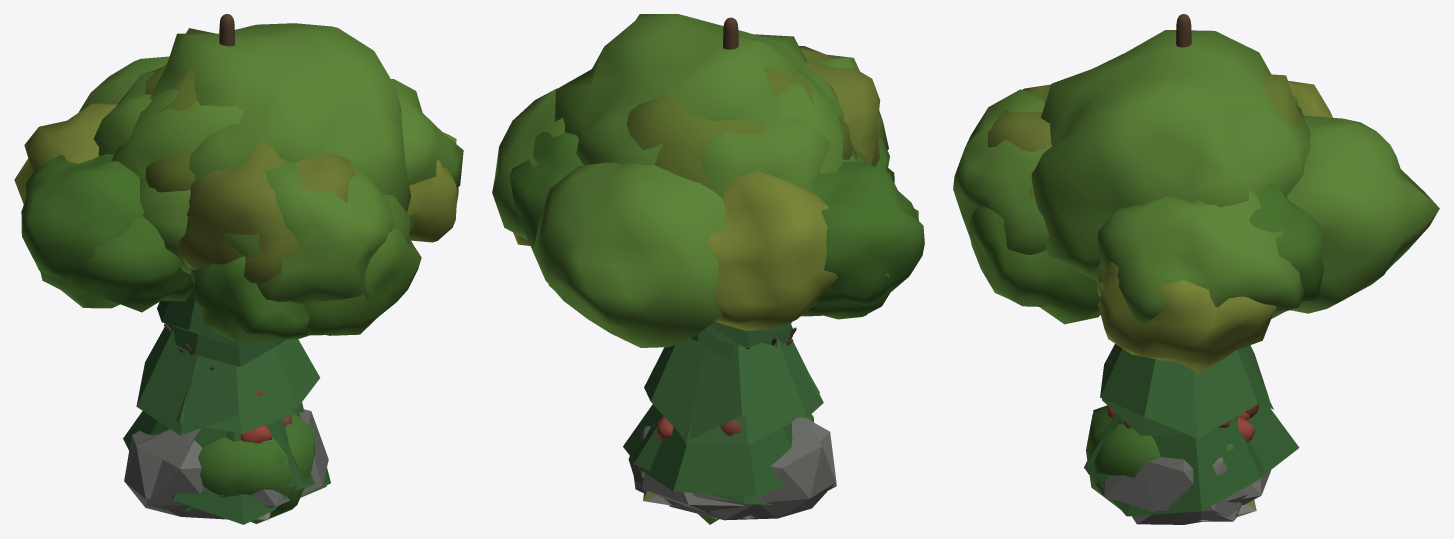
The model's file is nature.glb.
3 views of the same model, side by side, from view 1: azimuth 30°, elevation 25°; view 2: azimuth 150°, elevation 25°; view 3: azimuth 270°, elevation 25° (orthographic).
Visible parts, largest first — view 1: tree_leaf_2, tree_leaf_warm, tree_leaf_0, tree_leaf_1, tree_pine_0, bush_plain_1, tree_pine_1, boulder_3, boulder_0, boulder_2; view 2: tree_leaf_2, tree_leaf_warm, tree_leaf_0, tree_pine_0, boulder_3, tree_leaf_1, tree_pine_1, boulder_1, boulder_0, shrub_autumn_1; view 3: tree_leaf_2, tree_pine_0, tree_leaf_warm, tree_leaf_1, tree_leaf_0, boulder_2, tree_pine_1, bush_plain_1, boulder_3.
Boxes of the visible parts, x1,y1,x2,y2 form: tree_leaf_2: [78, 23, 463, 303]; tree_leaf_warm: [14, 28, 458, 283]; tree_leaf_0: [21, 70, 310, 340]; tree_leaf_1: [39, 88, 421, 335]; tree_pine_0: [123, 14, 330, 524]; bush_plain_1: [198, 414, 314, 523]; tree_pine_1: [169, 326, 312, 511]; boulder_3: [124, 428, 326, 519]; boulder_0: [147, 440, 202, 510]; boulder_2: [190, 409, 328, 517]; tree_leaf_2: [492, 14, 882, 347]; tree_leaf_warm: [513, 46, 888, 330]; tree_leaf_0: [510, 116, 924, 305]; tree_pine_0: [623, 17, 823, 496]; boulder_3: [638, 417, 835, 520]; tree_leaf_1: [554, 63, 918, 319]; tree_pine_1: [633, 324, 819, 506]; boulder_1: [642, 473, 743, 513]; boulder_0: [633, 418, 836, 490]; shrub_autumn_1: [656, 416, 742, 440]; tree_leaf_2: [953, 30, 1439, 323]; tree_pine_0: [1090, 14, 1299, 516]; tree_leaf_warm: [988, 74, 1332, 373]; tree_leaf_1: [969, 200, 1228, 324]; tree_leaf_0: [1249, 95, 1323, 301]; boulder_2: [1085, 457, 1241, 519]; tree_pine_1: [1084, 392, 1273, 492]; bush_plain_1: [1086, 405, 1233, 509]; boulder_3: [1132, 457, 1247, 524].
Size of the model in its own units: 3.06 by 3.4 by 3.07.
